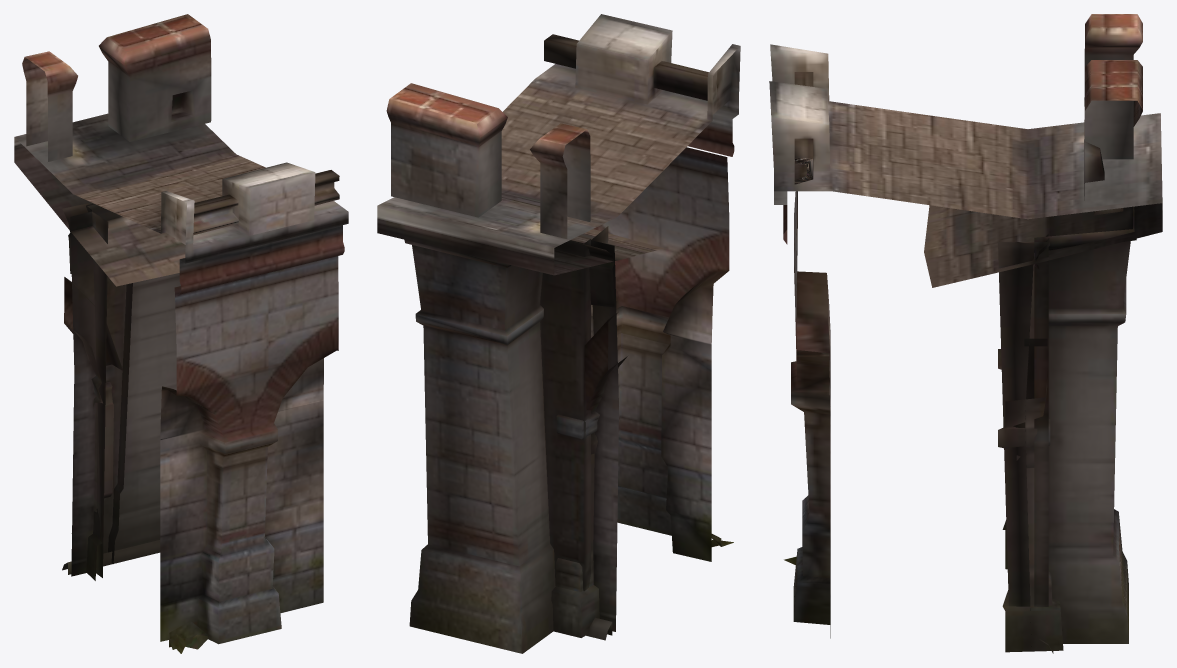
File: WallRunFront_38.fbx
The picture shows the model from 3 angles, left to right: view 1: azimuth 30°, elevation 25°; view 2: azimuth 150°, elevation 25°; view 3: azimuth 270°, elevation 25°; orthographic projection. The views are drawn at different scales.
Parts seen in each view (by area): view 1: Imported wall section.026; view 2: Imported wall section.026; view 3: Imported wall section.026.
Part boxes in pixels (x1,y1,x2,y2): Imported wall section.026: [14, 14, 348, 653]; Imported wall section.026: [377, 14, 740, 653]; Imported wall section.026: [769, 14, 1162, 653].
Size of the model in its own units: 200 by 575 by 369.
Materials: 1 (1 with a texture image).
